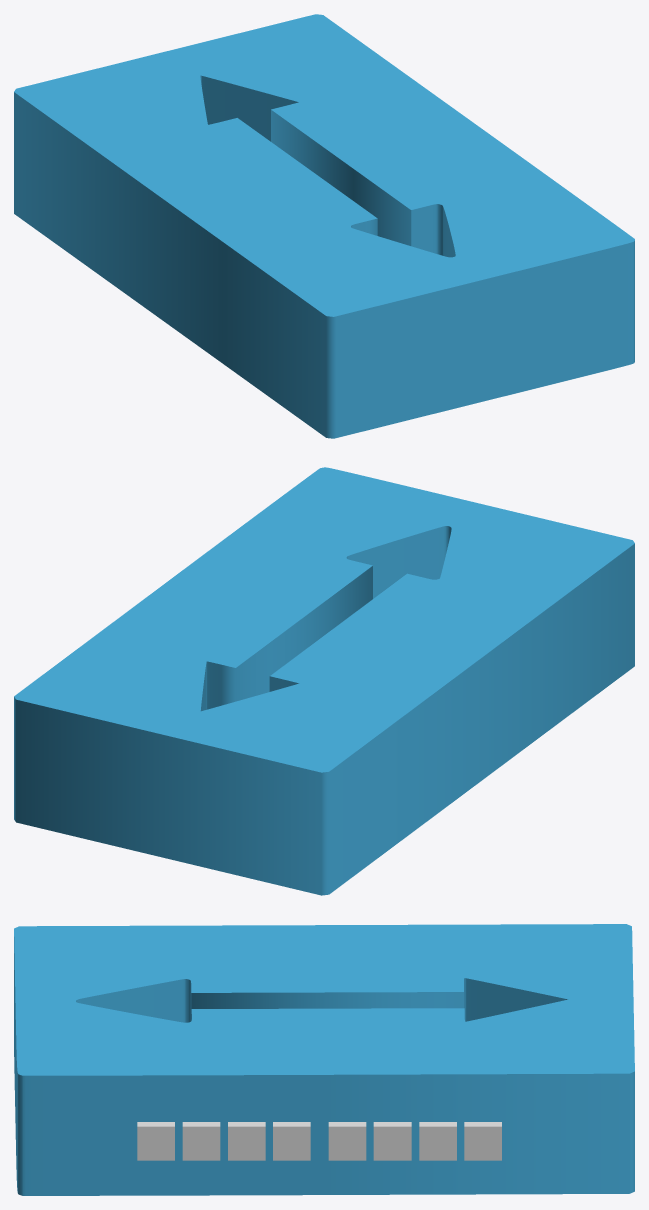
The model's file is hub2.glb.
3 renders of one model, top to bottom at view 1: azimuth 30°, elevation 25°; view 2: azimuth 150°, elevation 25°; view 3: azimuth 270°, elevation 25°, orthographic. The views are drawn at different scales.
Visible parts, largest first — view 1: path534; view 2: path534; view 3: path534, Plane.001, Plane.007, Plane.008, Plane.002, Plane.003, Plane.004, Plane.005, Plane.006.
Boxes of the visible parts, box(x1,y1,x2,y2) form: path534: box(14, 14, 634, 438); path534: box(14, 467, 634, 895); path534: box(14, 924, 634, 1195); Plane.001: box(182, 1122, 220, 1160); Plane.007: box(328, 1122, 366, 1160); Plane.008: box(373, 1122, 411, 1160); Plane.002: box(137, 1122, 174, 1160); Plane.003: box(228, 1122, 265, 1160); Plane.004: box(273, 1122, 310, 1160); Plane.005: box(464, 1122, 501, 1160); Plane.006: box(419, 1122, 456, 1160).
Size of the model in its own units: 1.71 by 0.6 by 2.81.
